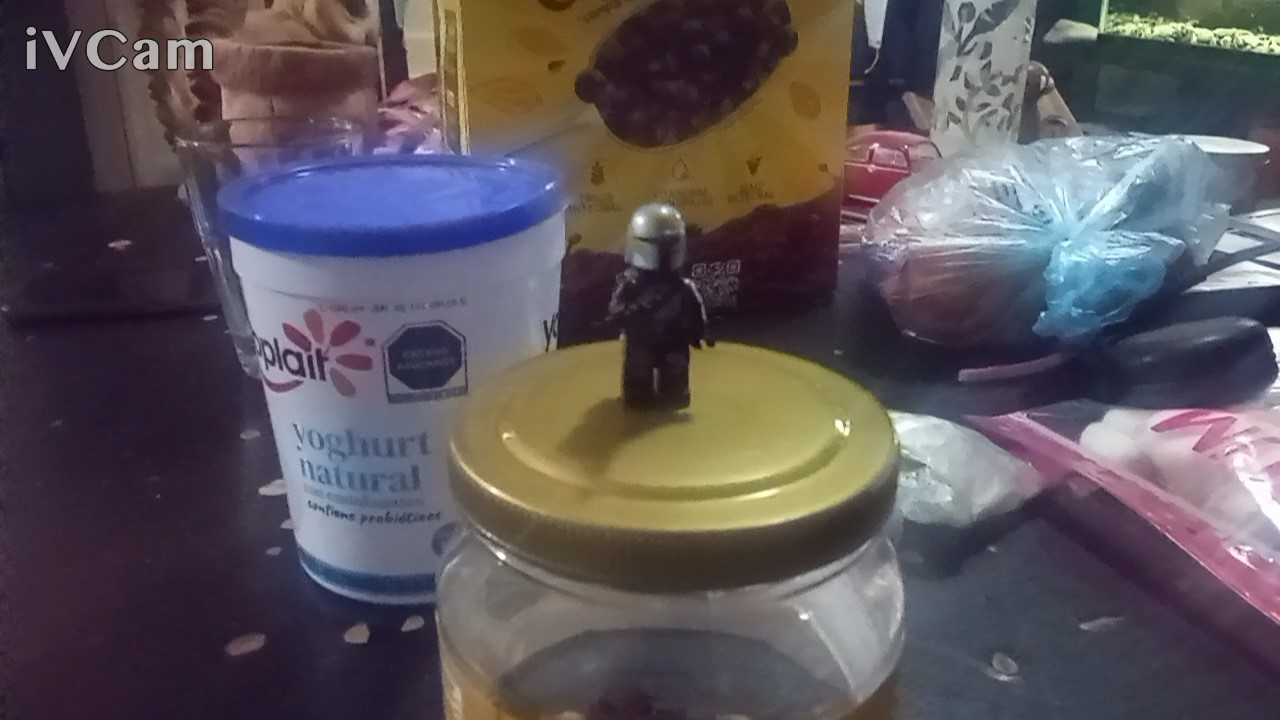mandalorian: (597, 193, 746, 425)
